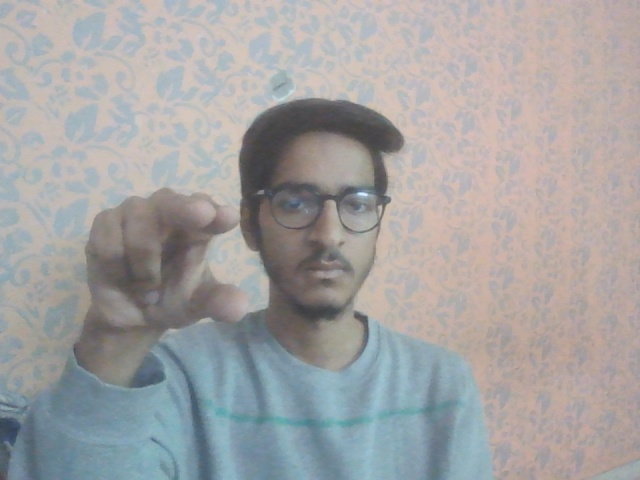No: (73, 182, 257, 342)
